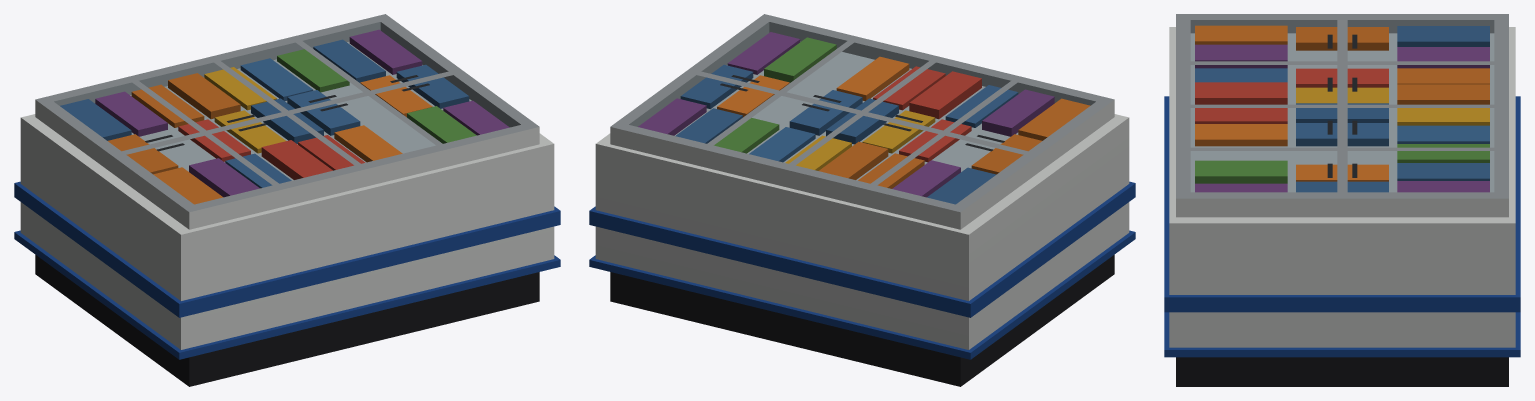
Rendered from appliance.freezer_chest.blue_rail.glb.
3 views of the same model, side by side, from view 1: azimuth 30°, elevation 25°; view 2: azimuth 150°, elevation 25°; view 3: azimuth 270°, elevation 25° (orthographic). The views are drawn at different scales.
Parts seen in each view (by area): view 1: appliance_freezer_chest_blue_rail; view 2: appliance_freezer_chest_blue_rail; view 3: appliance_freezer_chest_blue_rail.
Part boxes in pixels (left/top/right/bottom): appliance_freezer_chest_blue_rail: left=14, top=14, right=560, bottom=386; appliance_freezer_chest_blue_rail: left=589, top=14, right=1135, bottom=386; appliance_freezer_chest_blue_rail: left=1164, top=14, right=1520, bottom=386.
Size of what is drawn, in the model's own units: 2.29 by 1 by 1.71.
